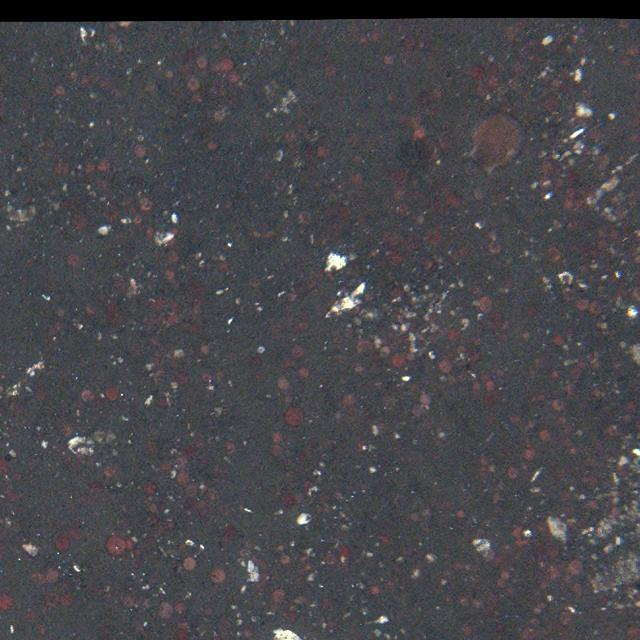scallop: (463, 109, 528, 174)
